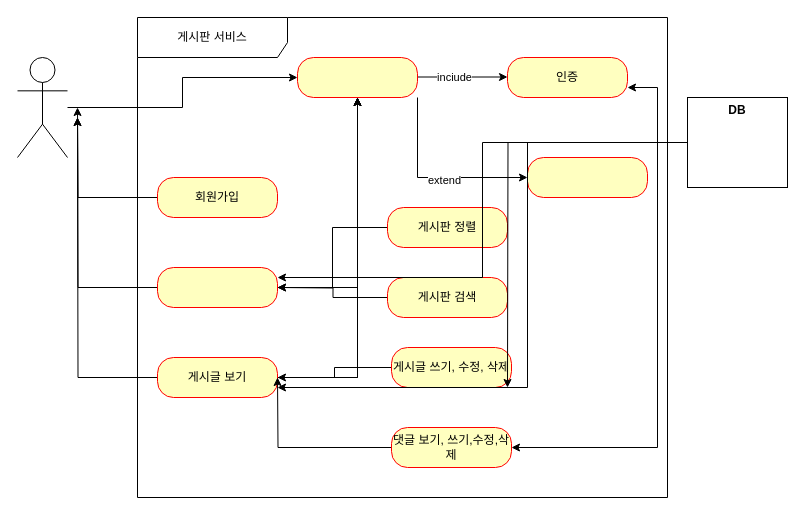
This 805x515 diagram has some shape labels left out. Here are the shapes that lost their labels. From the top down, the centre of each, then its label:
At [357,77]: "회원 로그인".
At [42,107]: "이용자".
At [587,177]: "로그인 실패".
At [217,287]: "게시판 보기".
